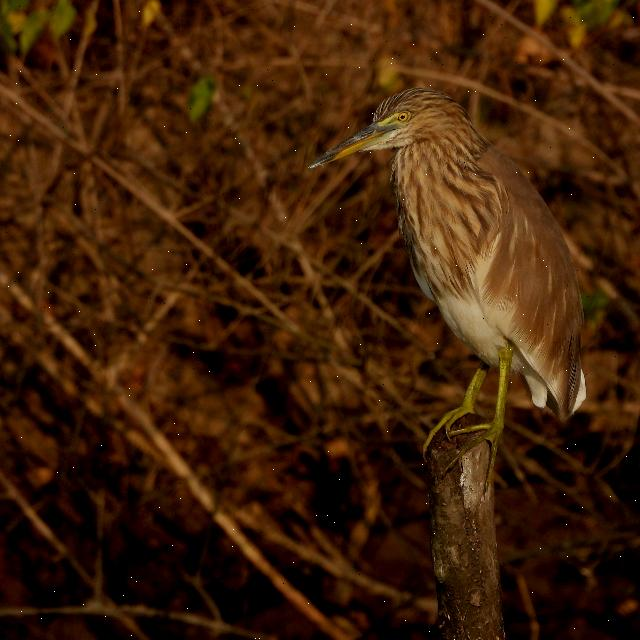heron: (306, 79, 598, 489)
